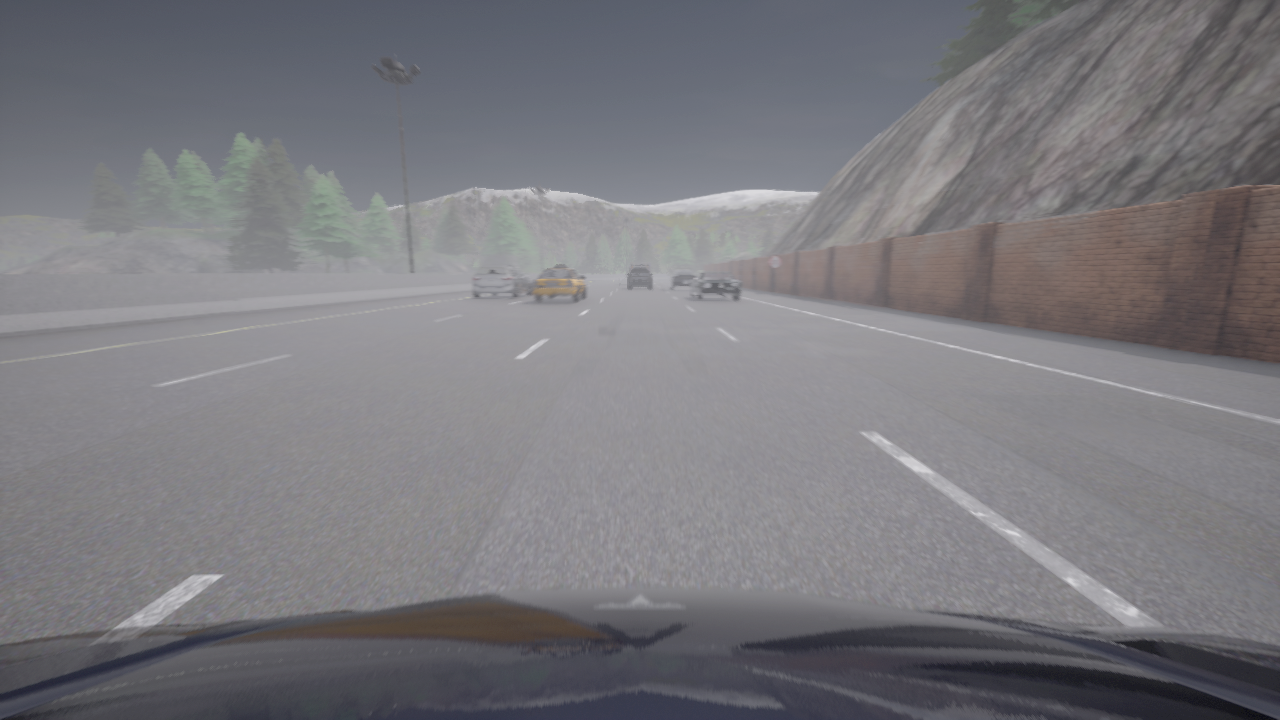cyclist: (0, 588, 1279, 719), (472, 264, 532, 298), (532, 265, 586, 302), (690, 272, 742, 300), (668, 268, 696, 290), (628, 268, 652, 288), (629, 262, 650, 274)
